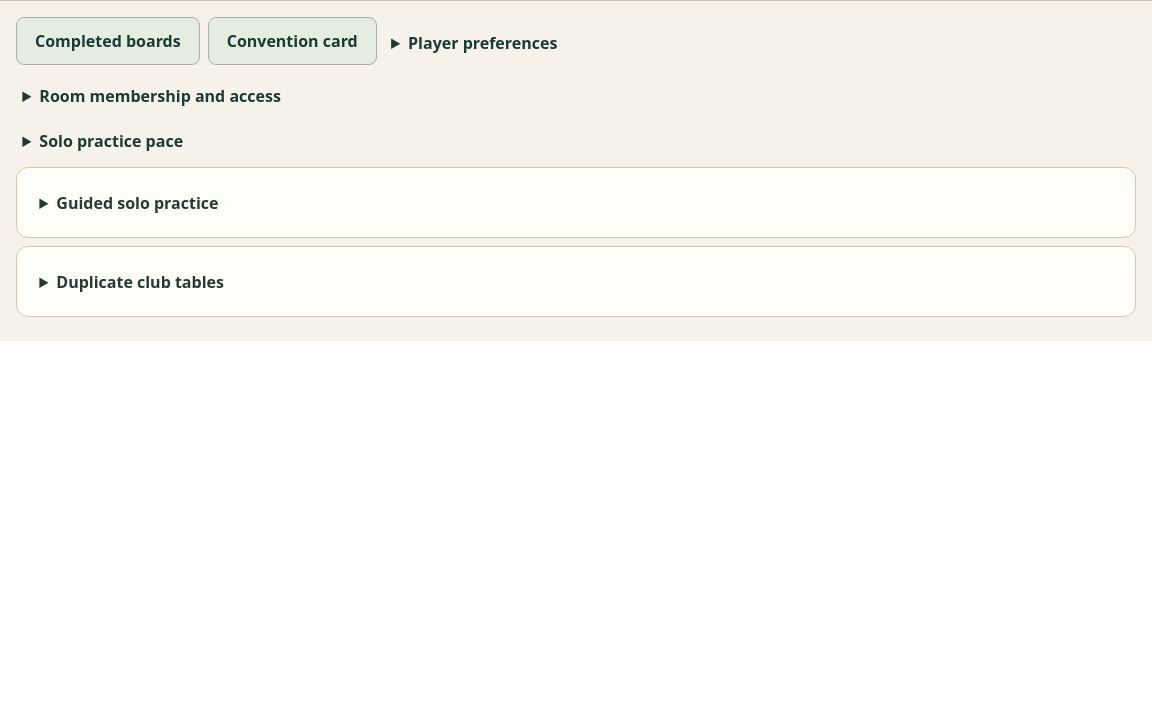
Test case: persisted preferences and server-only practice speed › shows no practice speed for multiplayer and applies solo speed only after server confirms
The image size is (1152, 720).
Click the heading "Solo practice pace".
click(111, 141)  # box [39, 130, 183, 152]
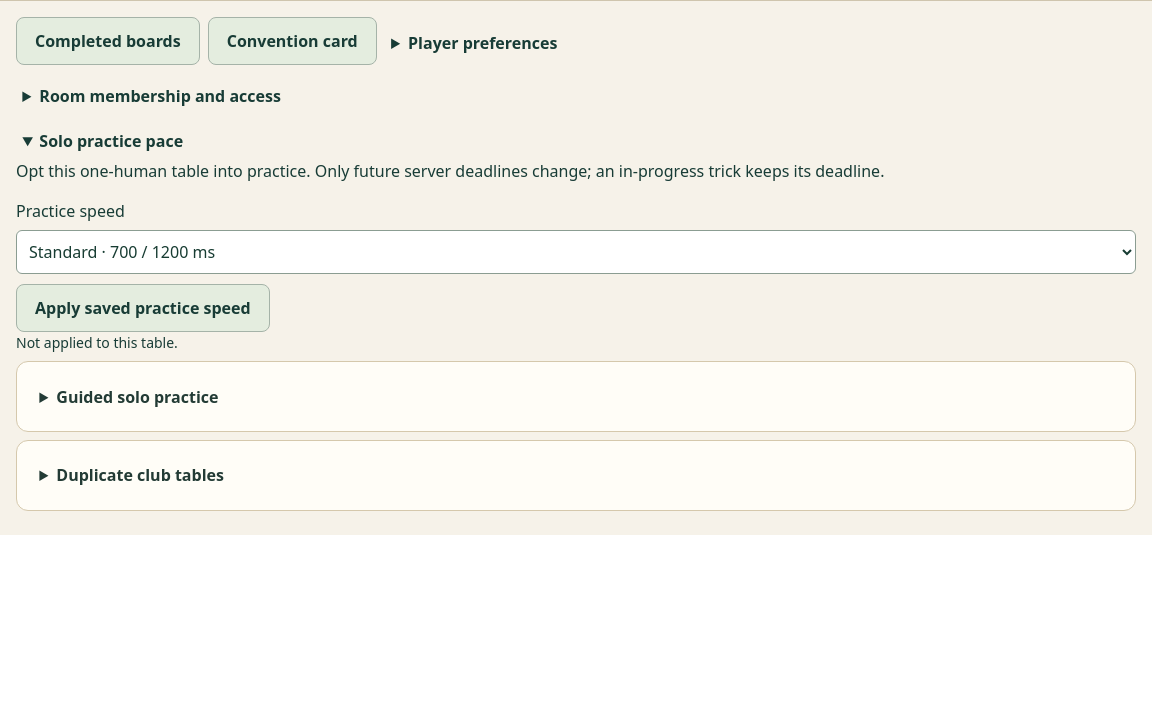
Select "Quick" in the dropdown labelled "Practice speed" at (576, 252), box [16, 230, 1136, 274]
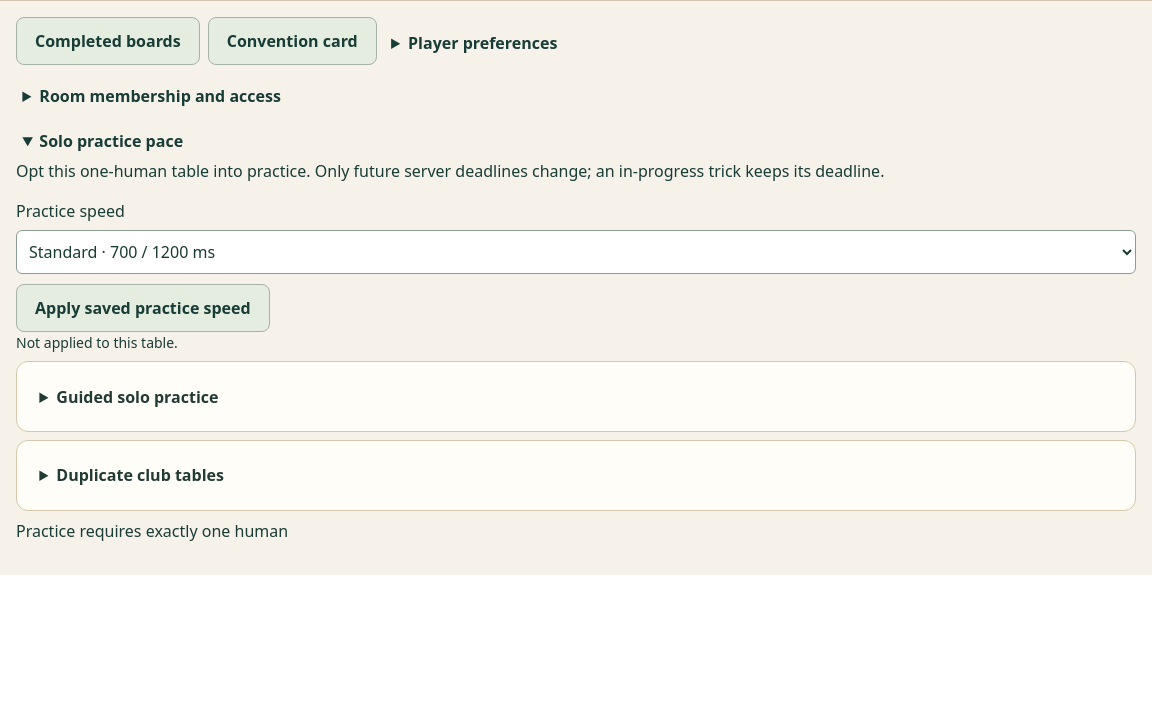
Now the message "Practice requires exactly one human" is shown, box [16, 520, 288, 542]
